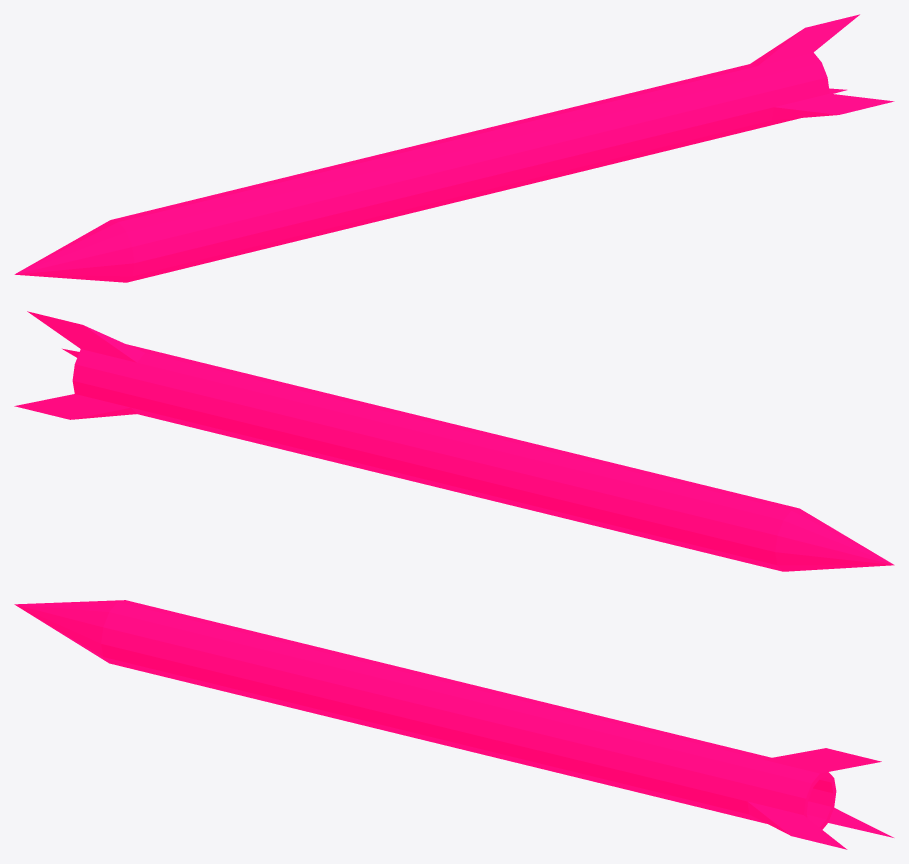
The model's file is missle.glb.
3 renders of one model, top to bottom at view 1: azimuth 30°, elevation 25°; view 2: azimuth 150°, elevation 25°; view 3: azimuth 330°, elevation 25°, orthographic.
Parts seen in each view (by area): view 1: Cylinder; view 2: Cylinder; view 3: Cylinder.
Boxes of the visible parts, <box> form: Cylinder: <box>14,14,894,282</box>; Cylinder: <box>14,311,894,571</box>; Cylinder: <box>14,600,893,849</box>.
Size of the model in its own units: 3.99 by 0.3794 by 0.3794.
